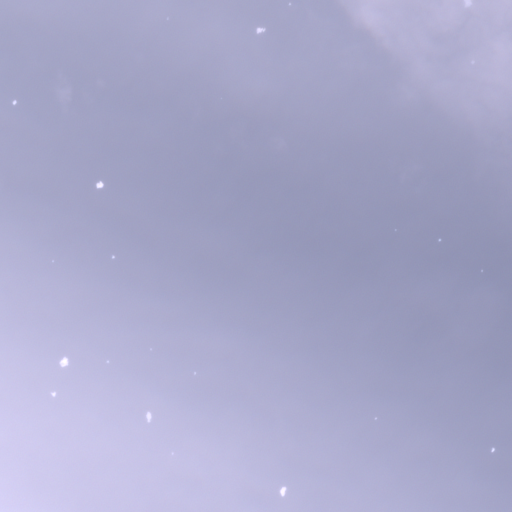Iceberg: (59, 357, 67, 366), (280, 487, 286, 496), (146, 412, 151, 422), (256, 28, 265, 33), (96, 181, 103, 187), (12, 100, 16, 104), (51, 392, 55, 396), (491, 447, 494, 452), (438, 238, 440, 241), (112, 255, 114, 258), (289, 2, 290, 4), (481, 269, 482, 271), (194, 372, 195, 374), (375, 417, 376, 419), (395, 229, 396, 230), (52, 260, 53, 261), (107, 361, 108, 362)
